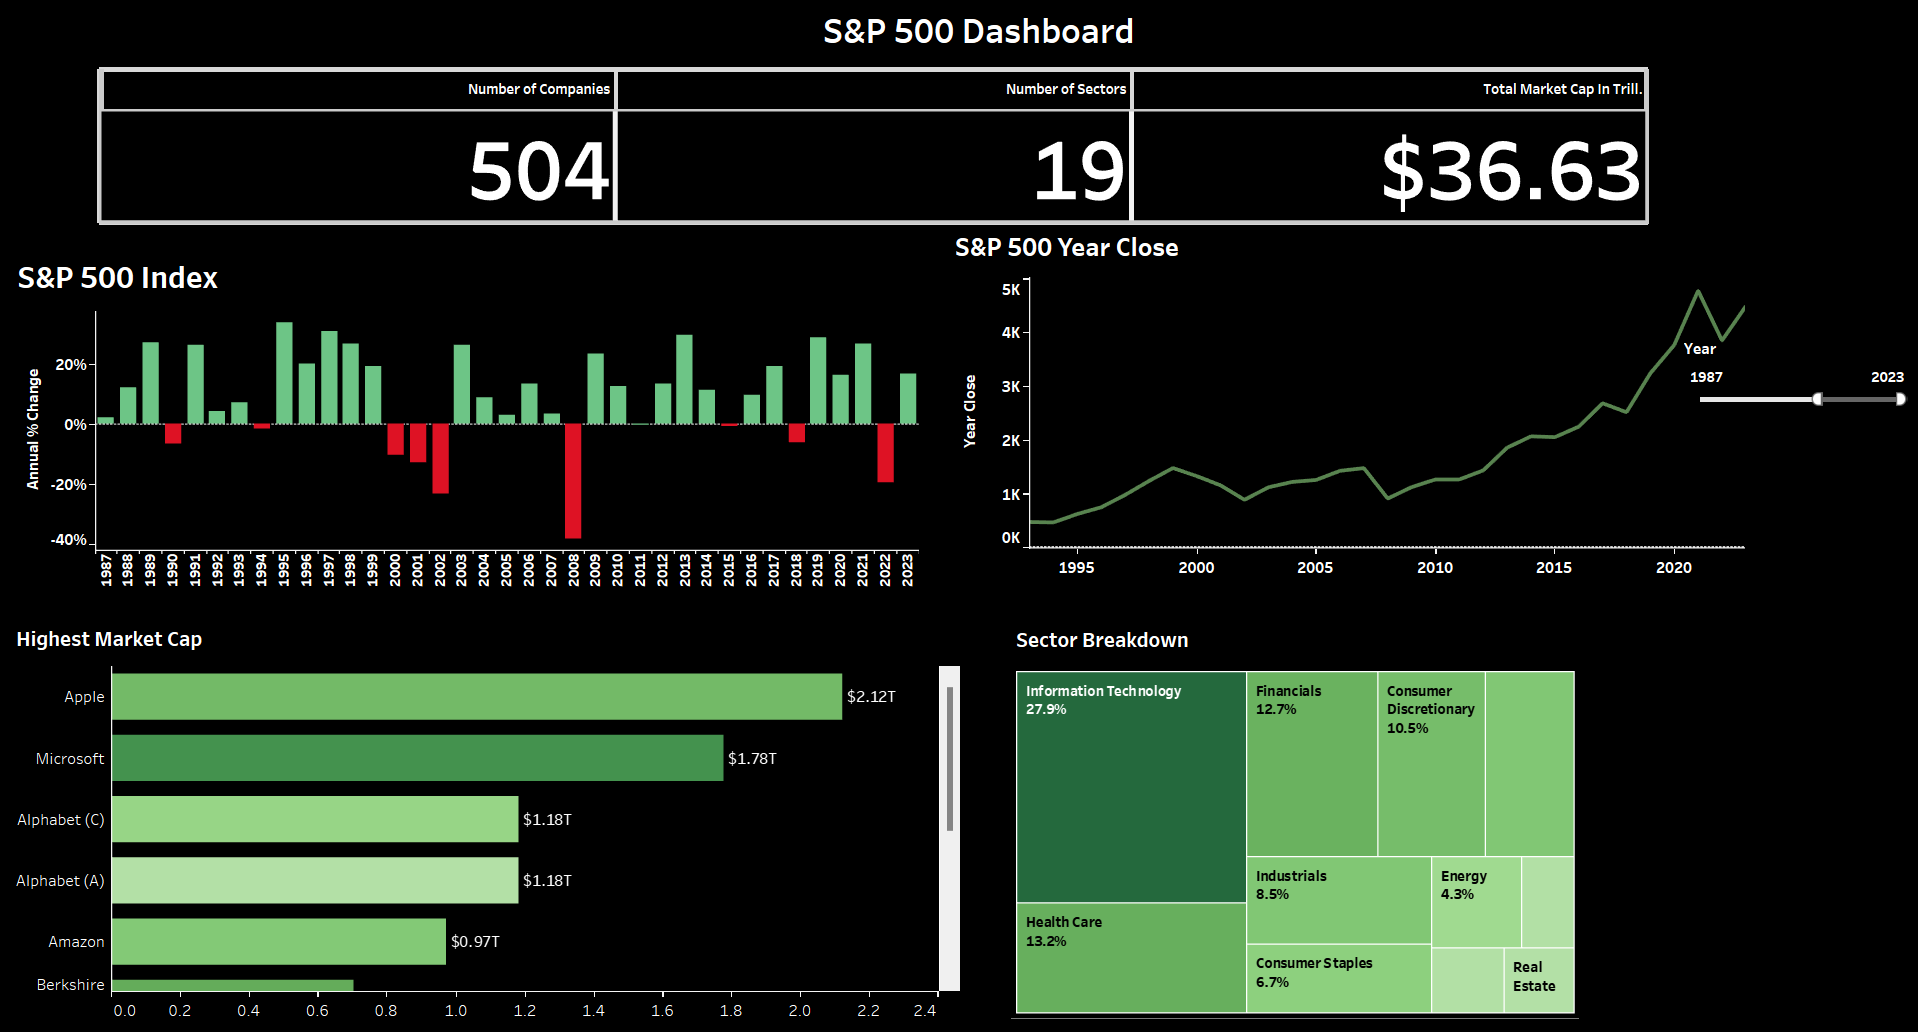

What the dashboard file says about the page in this screenshot:
{"tool":"tableau","page":{"name":"Dashboard","canvas":[1000,1000],"units":"permille","ordinal":0},"visuals":[{"type":"worksheet","title":"Index_Performance","mark":"Line","rows":["Year Close"],"cols":["Year"],"box":[494.8,145.8,414.4,421.2]},{"type":"worksheet","title":"Annual_%_Change","mark":"Automatic","rows":["Annual % Change"],"cols":["Year"],"box":[6.7,200.3,471.7,354.9]},{"type":"filter","title":"Index_Performance","param":"[federated.1ndf39k06u288t1esr7r40x2o1pt].[none:Year:qk]","box":[877.2,331.4,119,89.8]},{"type":"worksheet","title":"Index_by_Sectors","mark":"Automatic","box":[526.8,568.5,389.9,416.8]},{"type":"worksheet","title":"Companies_by_Market_Cap","mark":"Automatic","rows":["Security"],"cols":["Market Capitalization $T"],"box":[6,577.3,494.8,415.3]}]}

Visuals, with their boxes on the dashboard's canvas, which has no fixed pixel size, in thousandths of its width and height (x1, y1, x2, y2). These are canvas units, not pixel positions in the 1918x1032 screenshot, which may show the page scaled, cropped or inside an application window:
"Index_Performance" worksheet (Line marks): [495, 146, 909, 567]
"Annual_%_Change" worksheet: [7, 200, 478, 555]
"Index_Performance" filter: [877, 331, 996, 421]
"Index_by_Sectors" worksheet: [527, 568, 917, 985]
"Companies_by_Market_Cap" worksheet: [6, 577, 501, 993]
